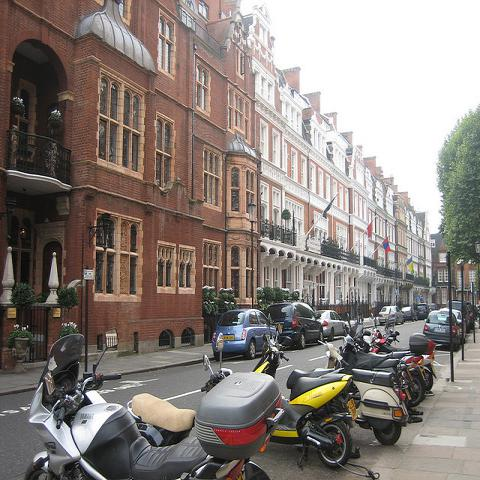car: (211, 312, 279, 361), (265, 302, 323, 350), (422, 309, 460, 351), (319, 308, 349, 340), (452, 299, 471, 333), (452, 308, 467, 344), (379, 305, 404, 326), (401, 306, 418, 322), (416, 303, 431, 319), (428, 301, 440, 310)
motorcycle: (27, 326, 285, 479), (201, 333, 352, 470), (320, 341, 412, 446), (340, 326, 422, 416), (346, 313, 424, 405), (251, 312, 336, 391), (370, 314, 438, 396)
